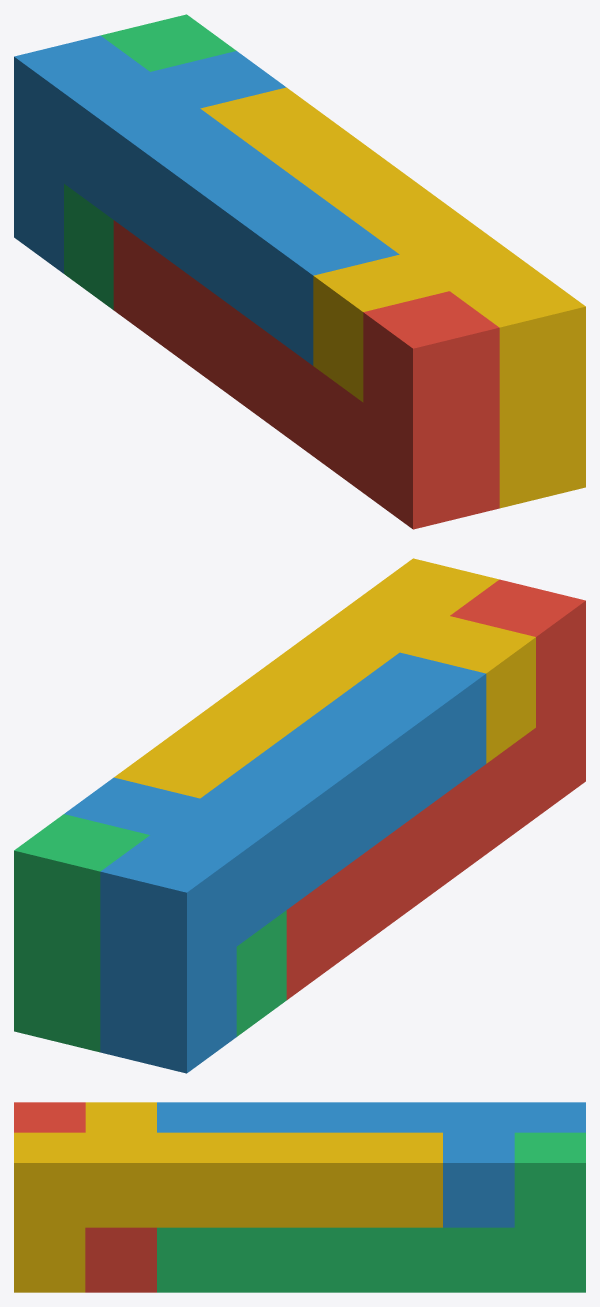
File: tiling.obj
The picture shows the model from 3 angles, top to bottom: view 1: azimuth 30°, elevation 25°; view 2: azimuth 150°, elevation 25°; view 3: azimuth 270°, elevation 25°; orthographic projection. The views are drawn at different scales.
Parts seen in each view (by area): view 1: copy_2, copy_1, copy_4, copy_3; view 2: copy_2, copy_1, copy_4, copy_3; view 3: copy_4, copy_3, copy_2, copy_1.
Part boxes in pixels (bbox=[...]): copy_2: bbox=[14, 35, 399, 365]; copy_1: bbox=[113, 220, 499, 529]; copy_4: bbox=[200, 87, 585, 508]; copy_3: bbox=[64, 14, 236, 309]; copy_2: bbox=[64, 652, 486, 1073]; copy_1: bbox=[286, 579, 585, 999]; copy_4: bbox=[114, 558, 535, 798]; copy_3: bbox=[14, 814, 286, 1052]; copy_4: bbox=[14, 1102, 442, 1292]; copy_3: bbox=[157, 1132, 585, 1292]; copy_2: bbox=[157, 1102, 585, 1227]; copy_1: bbox=[14, 1102, 156, 1292].
Bounding box in the file's own units: 2 × 2 × 8.
